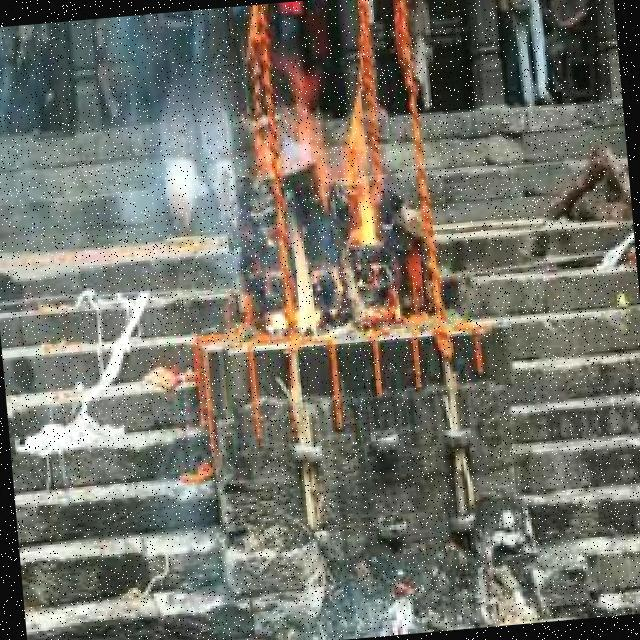Fire: (258, 76, 387, 337)
